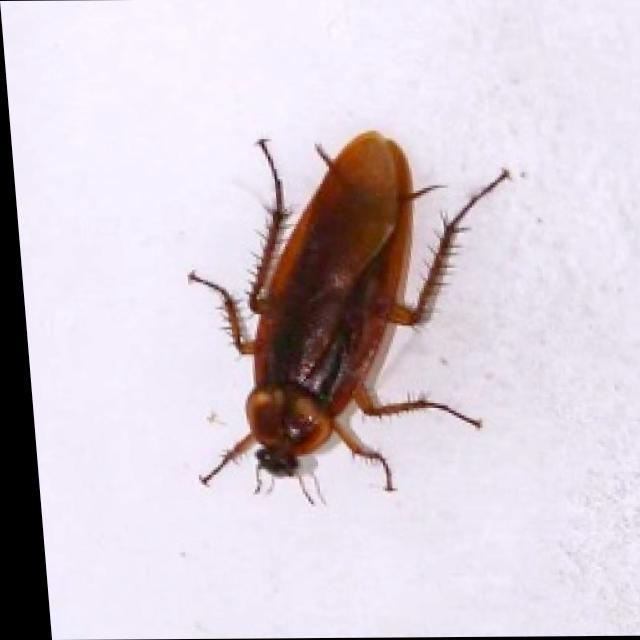cockroach: (182, 125, 518, 509)
